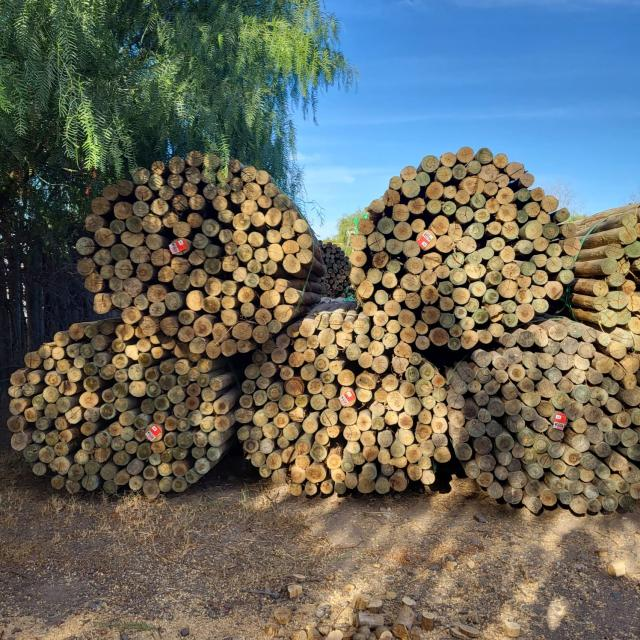package: (76, 152, 315, 356), (349, 148, 582, 350), (236, 315, 448, 495), (8, 327, 232, 497), (447, 324, 638, 516), (594, 202, 636, 370)
